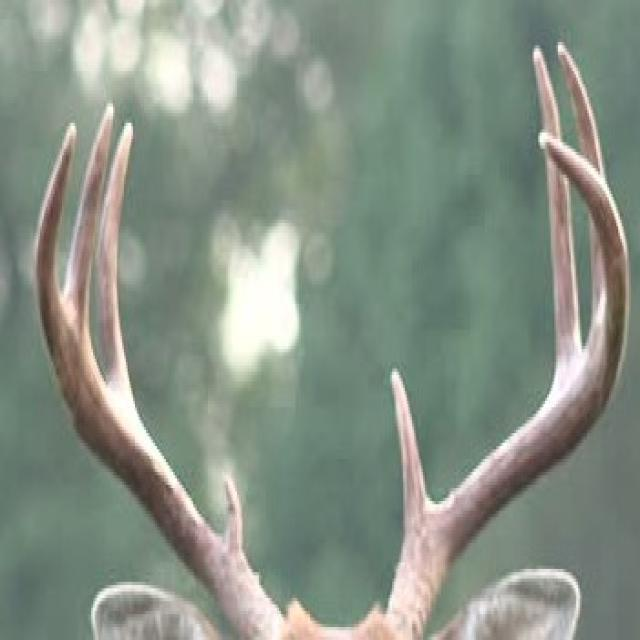L-F: (386, 128, 629, 637)
L-G1: (389, 367, 436, 548)
L-G2: (95, 121, 136, 410)
L-G3: (62, 102, 114, 343)
R-F: (32, 119, 280, 638)
R-G1: (222, 474, 243, 559)
